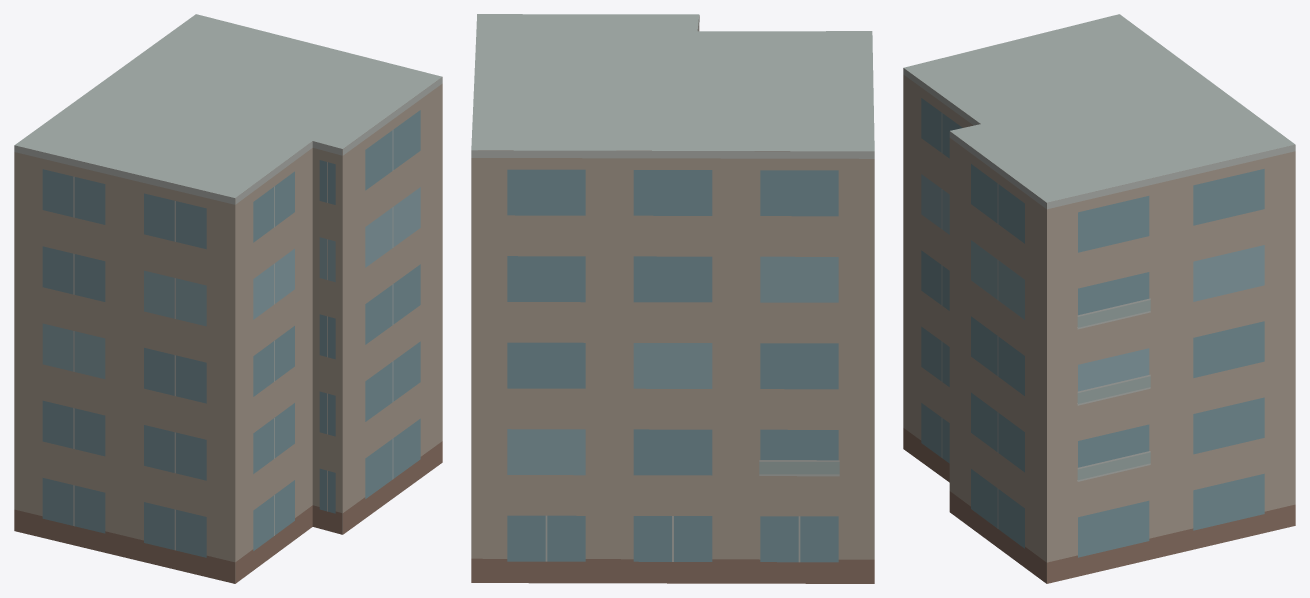
File: survey-upis-32695325.glb
The picture shows the model from 3 angles, left to right: view 1: azimuth 30°, elevation 25°; view 2: azimuth 150°, elevation 25°; view 3: azimuth 270°, elevation 25°; orthographic projection. The views are drawn at different scales.
Visible parts, largest first — view 1: survey-upis-32695325.tmp; view 2: survey-upis-32695325.tmp; view 3: survey-upis-32695325.tmp.
Part boxes in pixels (<box>): survey-upis-32695325.tmp: <box>14,14,442,583</box>; survey-upis-32695325.tmp: <box>471,14,874,583</box>; survey-upis-32695325.tmp: <box>903,14,1295,583</box>.
Bounding box in the file's own units: 14.87 × 14 × 13.07.
